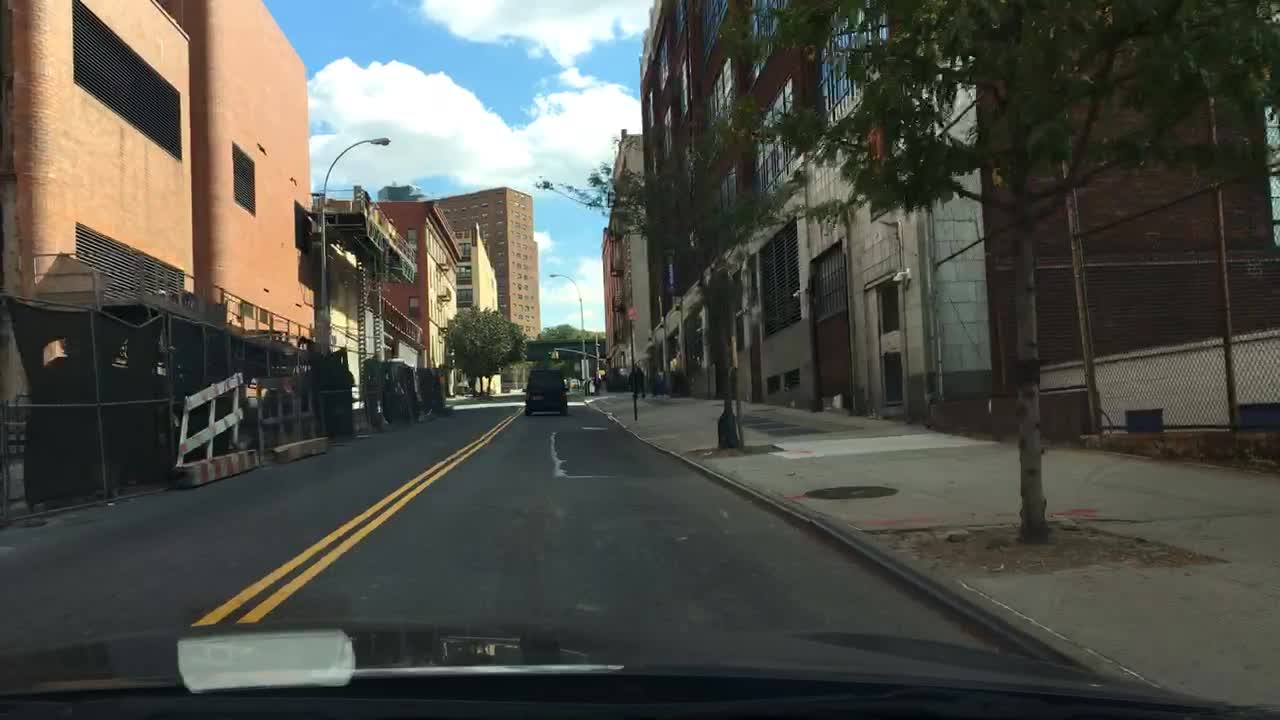car: (520, 367, 569, 418), (561, 377, 572, 391), (569, 377, 581, 389)
person: (630, 364, 649, 401), (590, 374, 603, 395)
traffic light: (548, 349, 555, 360), (556, 349, 562, 359)
traffic sign: (626, 306, 638, 320)
